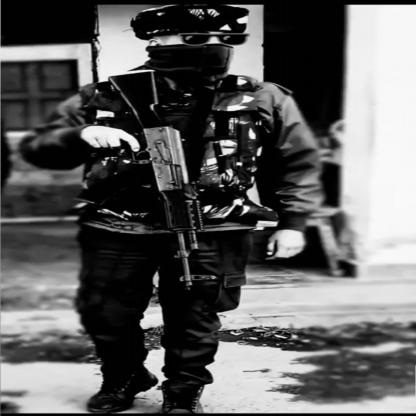rifle: (104, 68, 220, 293)
